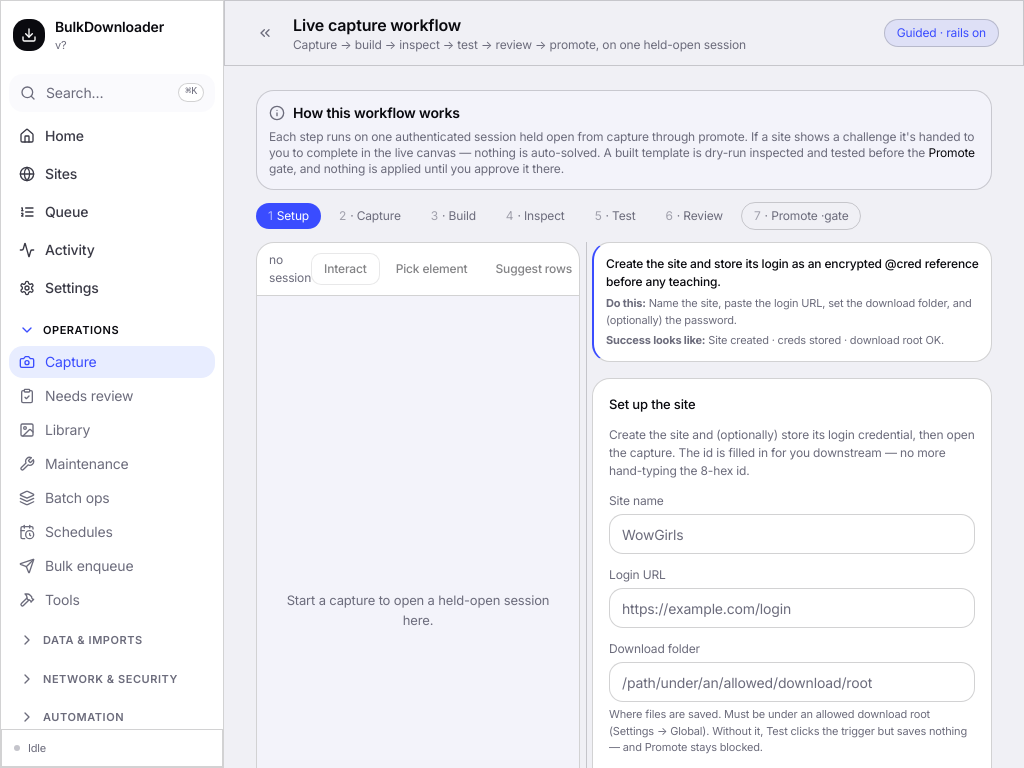
Test: row 363 workflow reachability › mounts live learning, network evidence, and listing crawl inside the existing Build step
Expected: the heading "Live capture workflow" is shown, x1=293 y1=15 x2=461 y2=35
Click the button "Guided · rails on" at (941, 33), box x1=884 y1=19 x2=999 y2=47
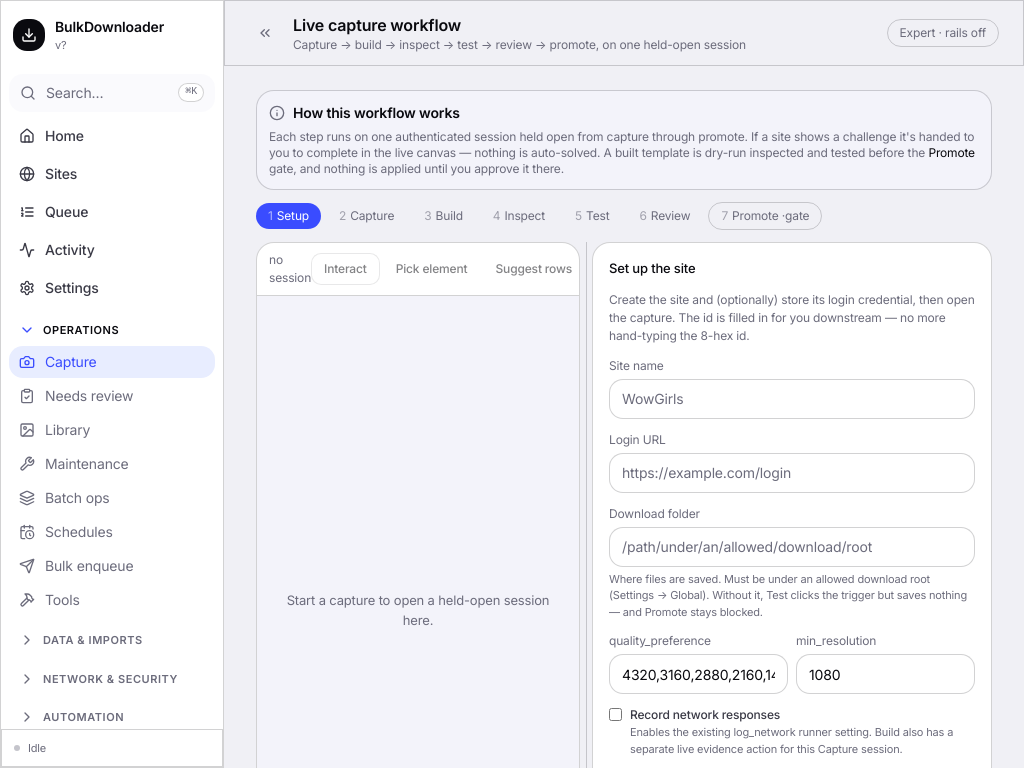
Click the button "3Build" at (444, 216), box x1=412 y1=203 x2=475 y2=229
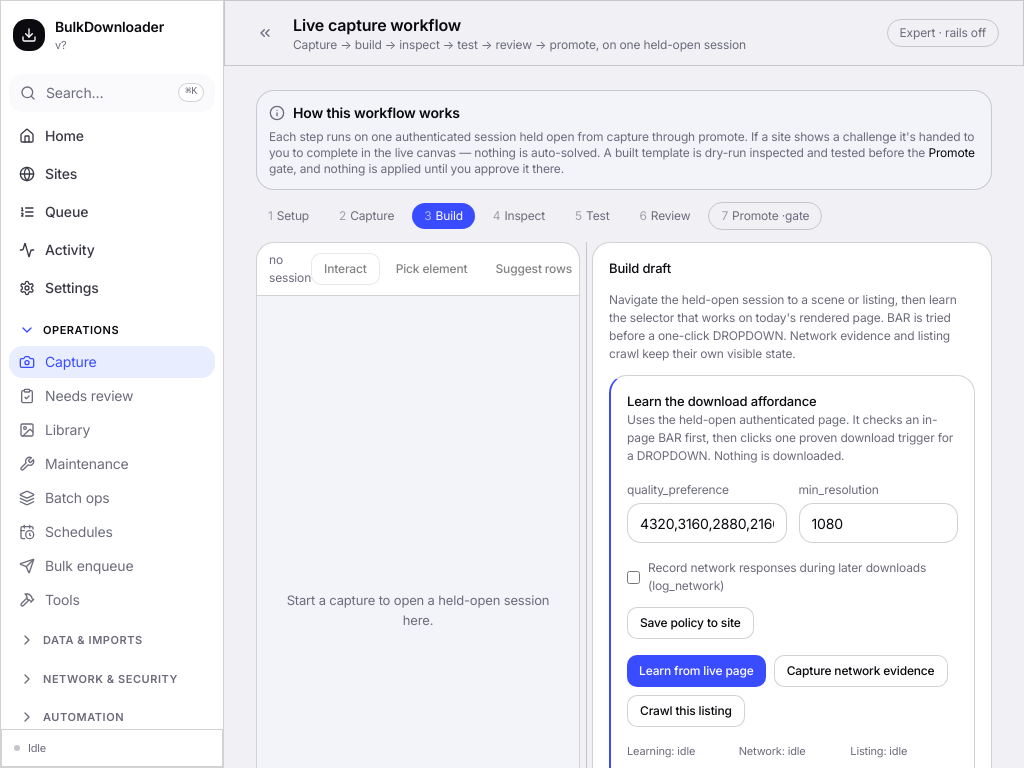
Expected: the button "Learn from live page" is shown, x1=627 y1=655 x2=766 y2=687
Expected: the button "Capture network evidence" is shown, x1=774 y1=655 x2=948 y2=687
Expected: the button "Crawl this listing" is shown, x1=627 y1=695 x2=745 y2=727
